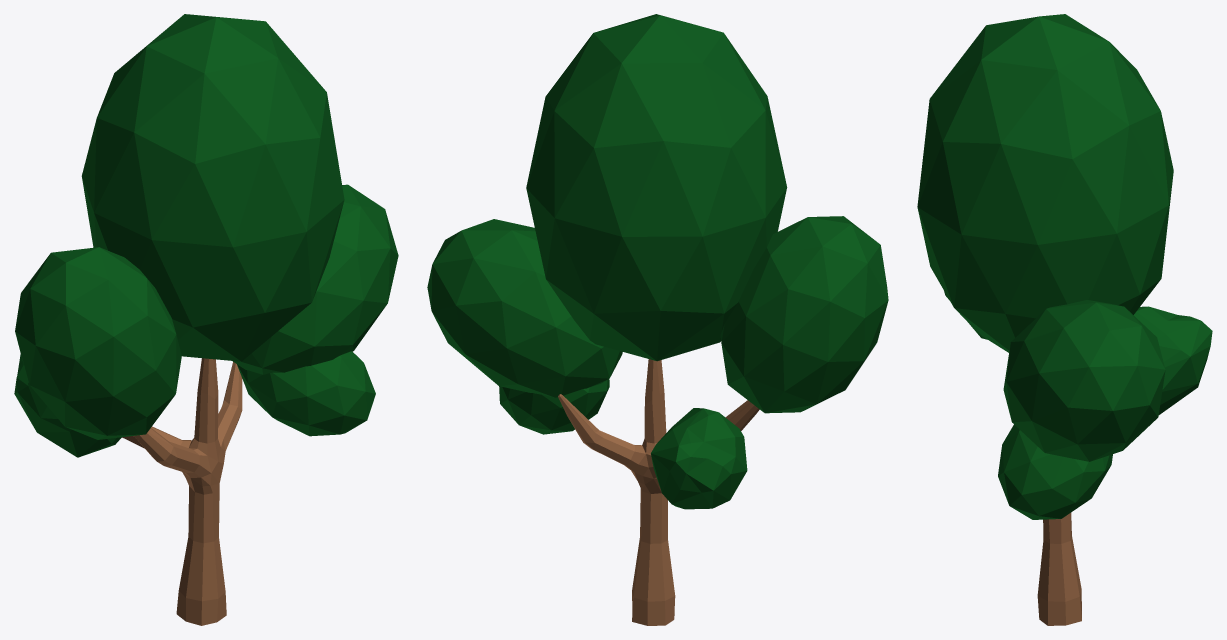
File: tree_15.glb
3 renders of one model, left to right at view 1: azimuth 30°, elevation 25°; view 2: azimuth 150°, elevation 25°; view 3: azimuth 270°, elevation 25°, orthographic.
Visible parts, largest first — view 1: body; view 2: body; view 3: body.
Part boxes in pixels (box(x1,y1,x2,y2)): body: box(14, 14, 398, 625); body: box(427, 14, 888, 625); body: box(917, 14, 1212, 625).
Bounding box in the file's own units: 1.19 × 1.69 × 0.7497.
